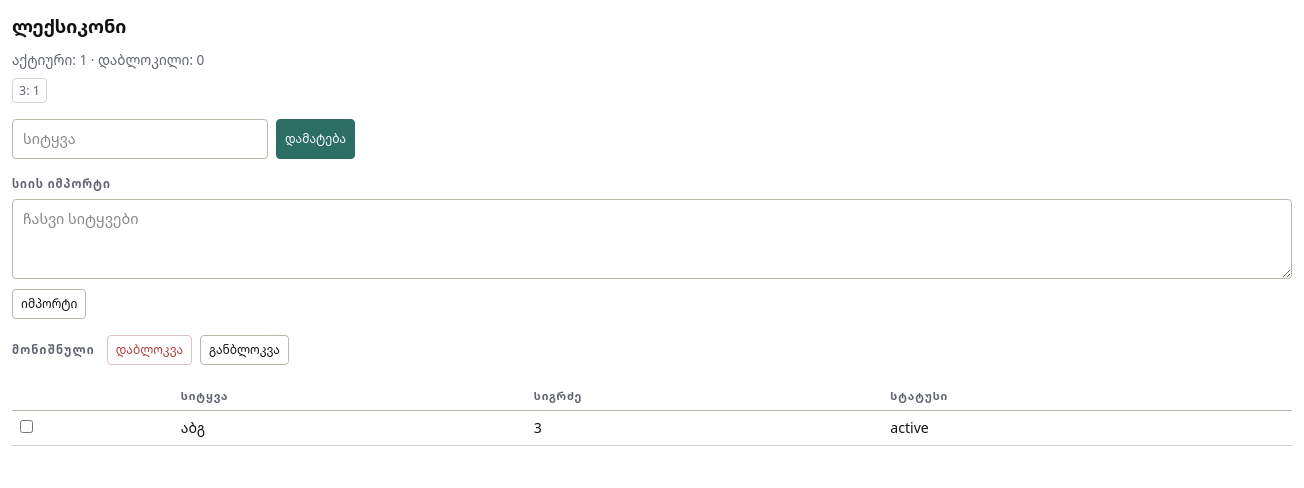
Test: WordlistManager › bulk-imports pasted text
Expected: the text "აბგ" is shown, [173, 411, 526, 446]
Step 1. Type "თბილისი ბათუმი" into the text box named "bulk import" → (652, 239), box [12, 199, 1292, 279]
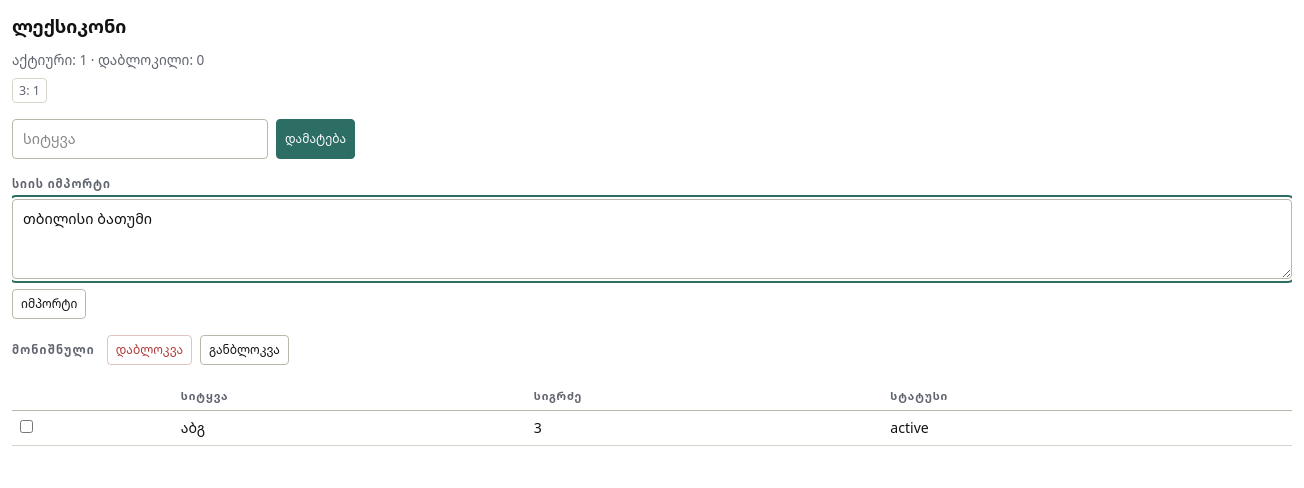
Step 2. Click the button "იმპორტი" → (49, 304), box [12, 289, 86, 319]
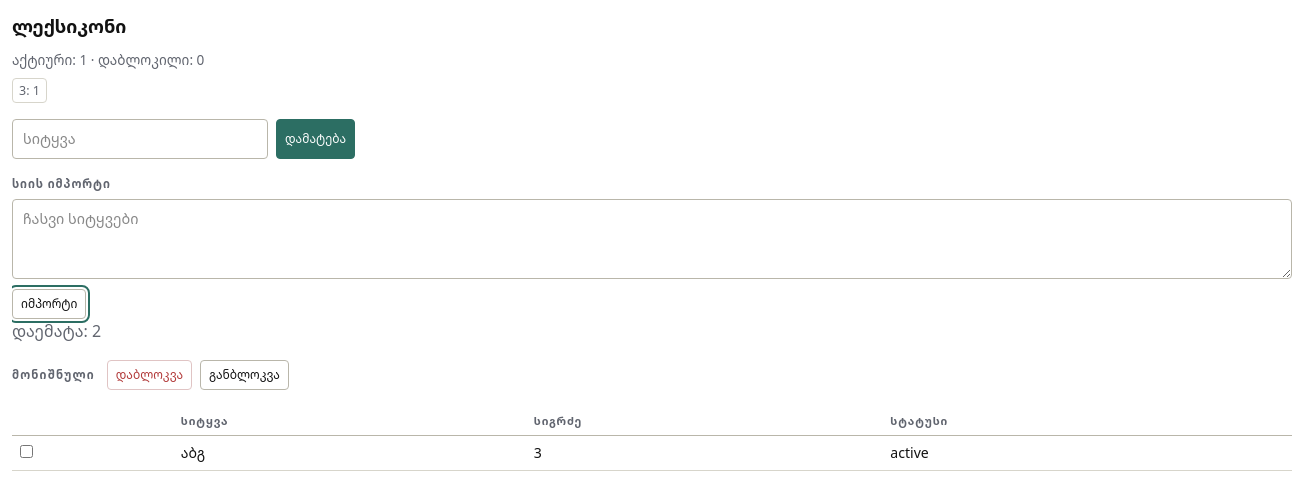
Now the text "დაემატა: 2" is shown, box [12, 320, 101, 342]
